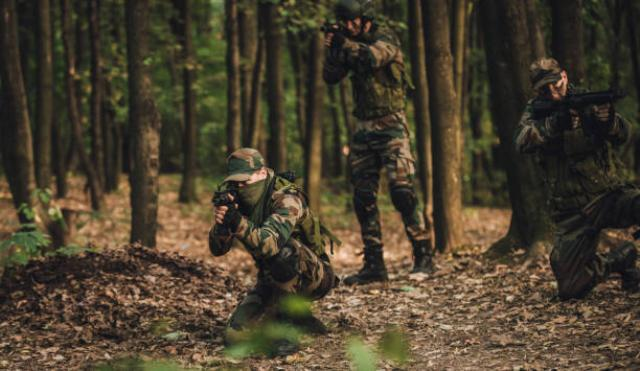other: (504, 61, 632, 290), (332, 3, 414, 286), (203, 146, 333, 301)
